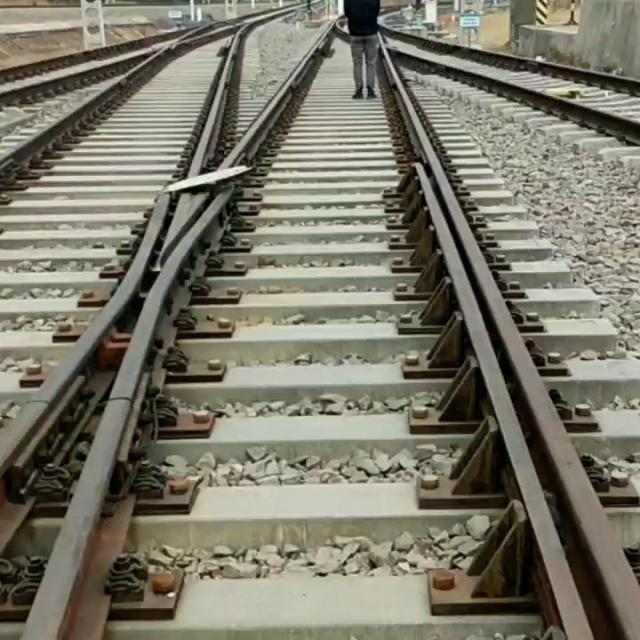rail: (384, 44, 640, 640), (22, 190, 229, 640), (0, 1, 325, 182), (0, 188, 172, 477), (386, 45, 640, 146), (0, 2, 316, 83), (378, 23, 640, 98), (219, 21, 335, 169), (188, 24, 251, 177), (0, 50, 162, 105), (158, 193, 208, 258)
